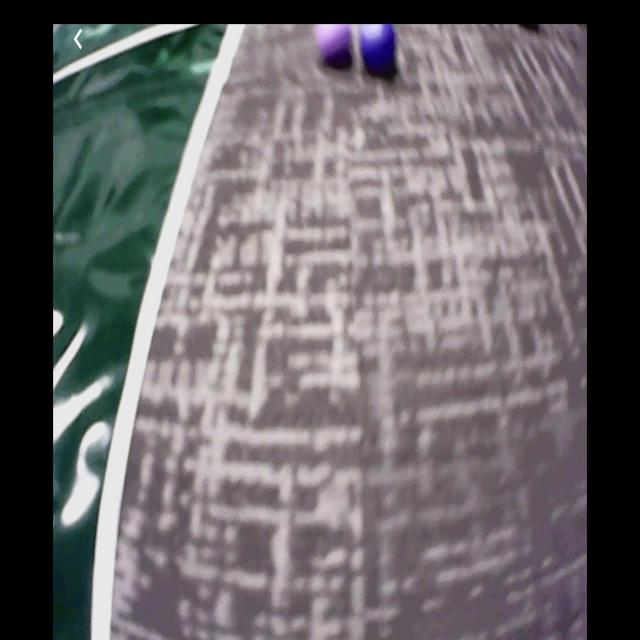ball: (361, 26, 400, 78), (318, 26, 356, 72)
